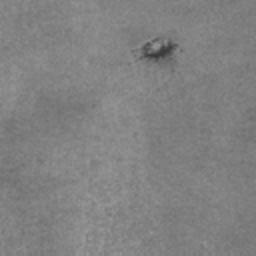Iron sheet ash: (141, 35, 179, 61)
